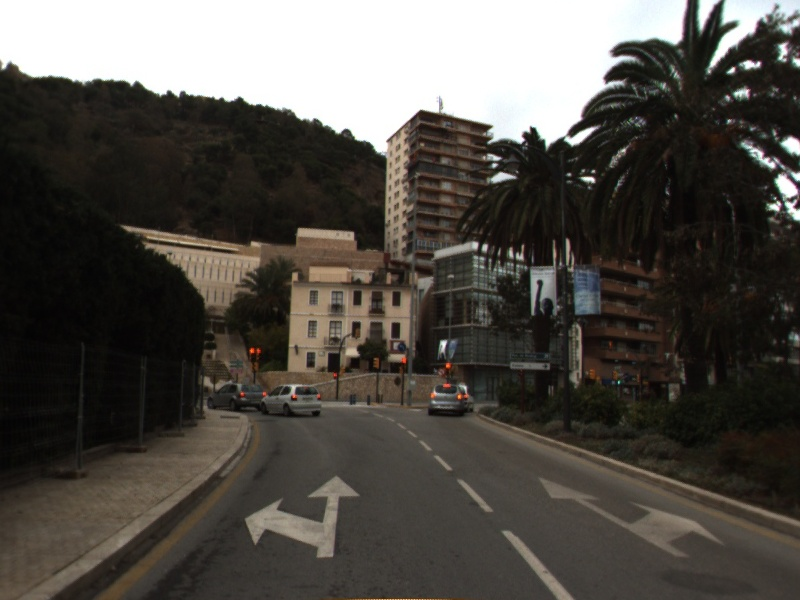STRAIGHT_LEFT: (243, 474, 362, 559)
STRAIGHT_RIGHT: (536, 475, 726, 558)
